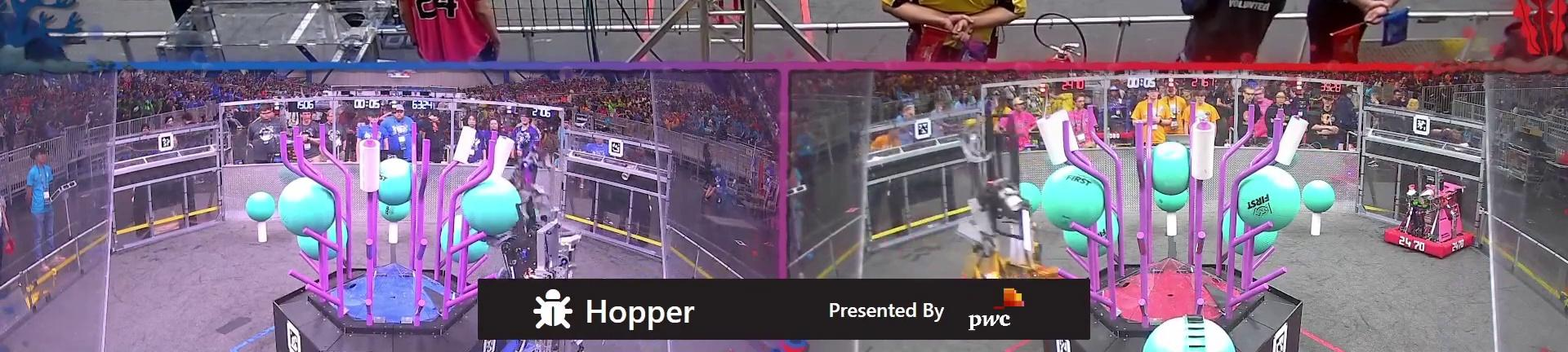coral: (1275, 114, 1310, 166), (1037, 117, 1068, 166), (1191, 121, 1215, 179), (1052, 109, 1079, 151), (492, 134, 516, 179), (360, 140, 380, 193), (453, 127, 477, 163)
reef: (1037, 102, 1310, 352), (272, 121, 516, 352)
robot: (959, 103, 1064, 280), (496, 158, 583, 352), (1383, 165, 1475, 261)
